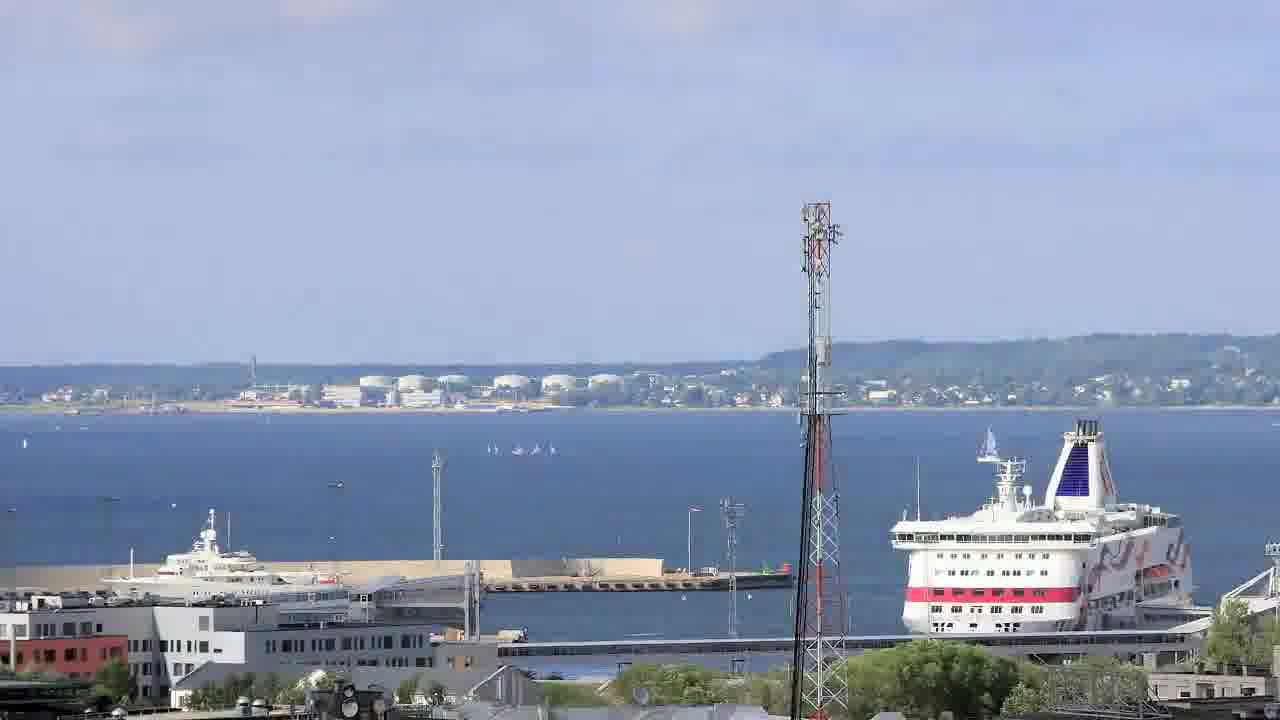type-2: (966, 417, 1014, 467)
type-3: (868, 415, 1225, 638), (84, 537, 359, 610)
